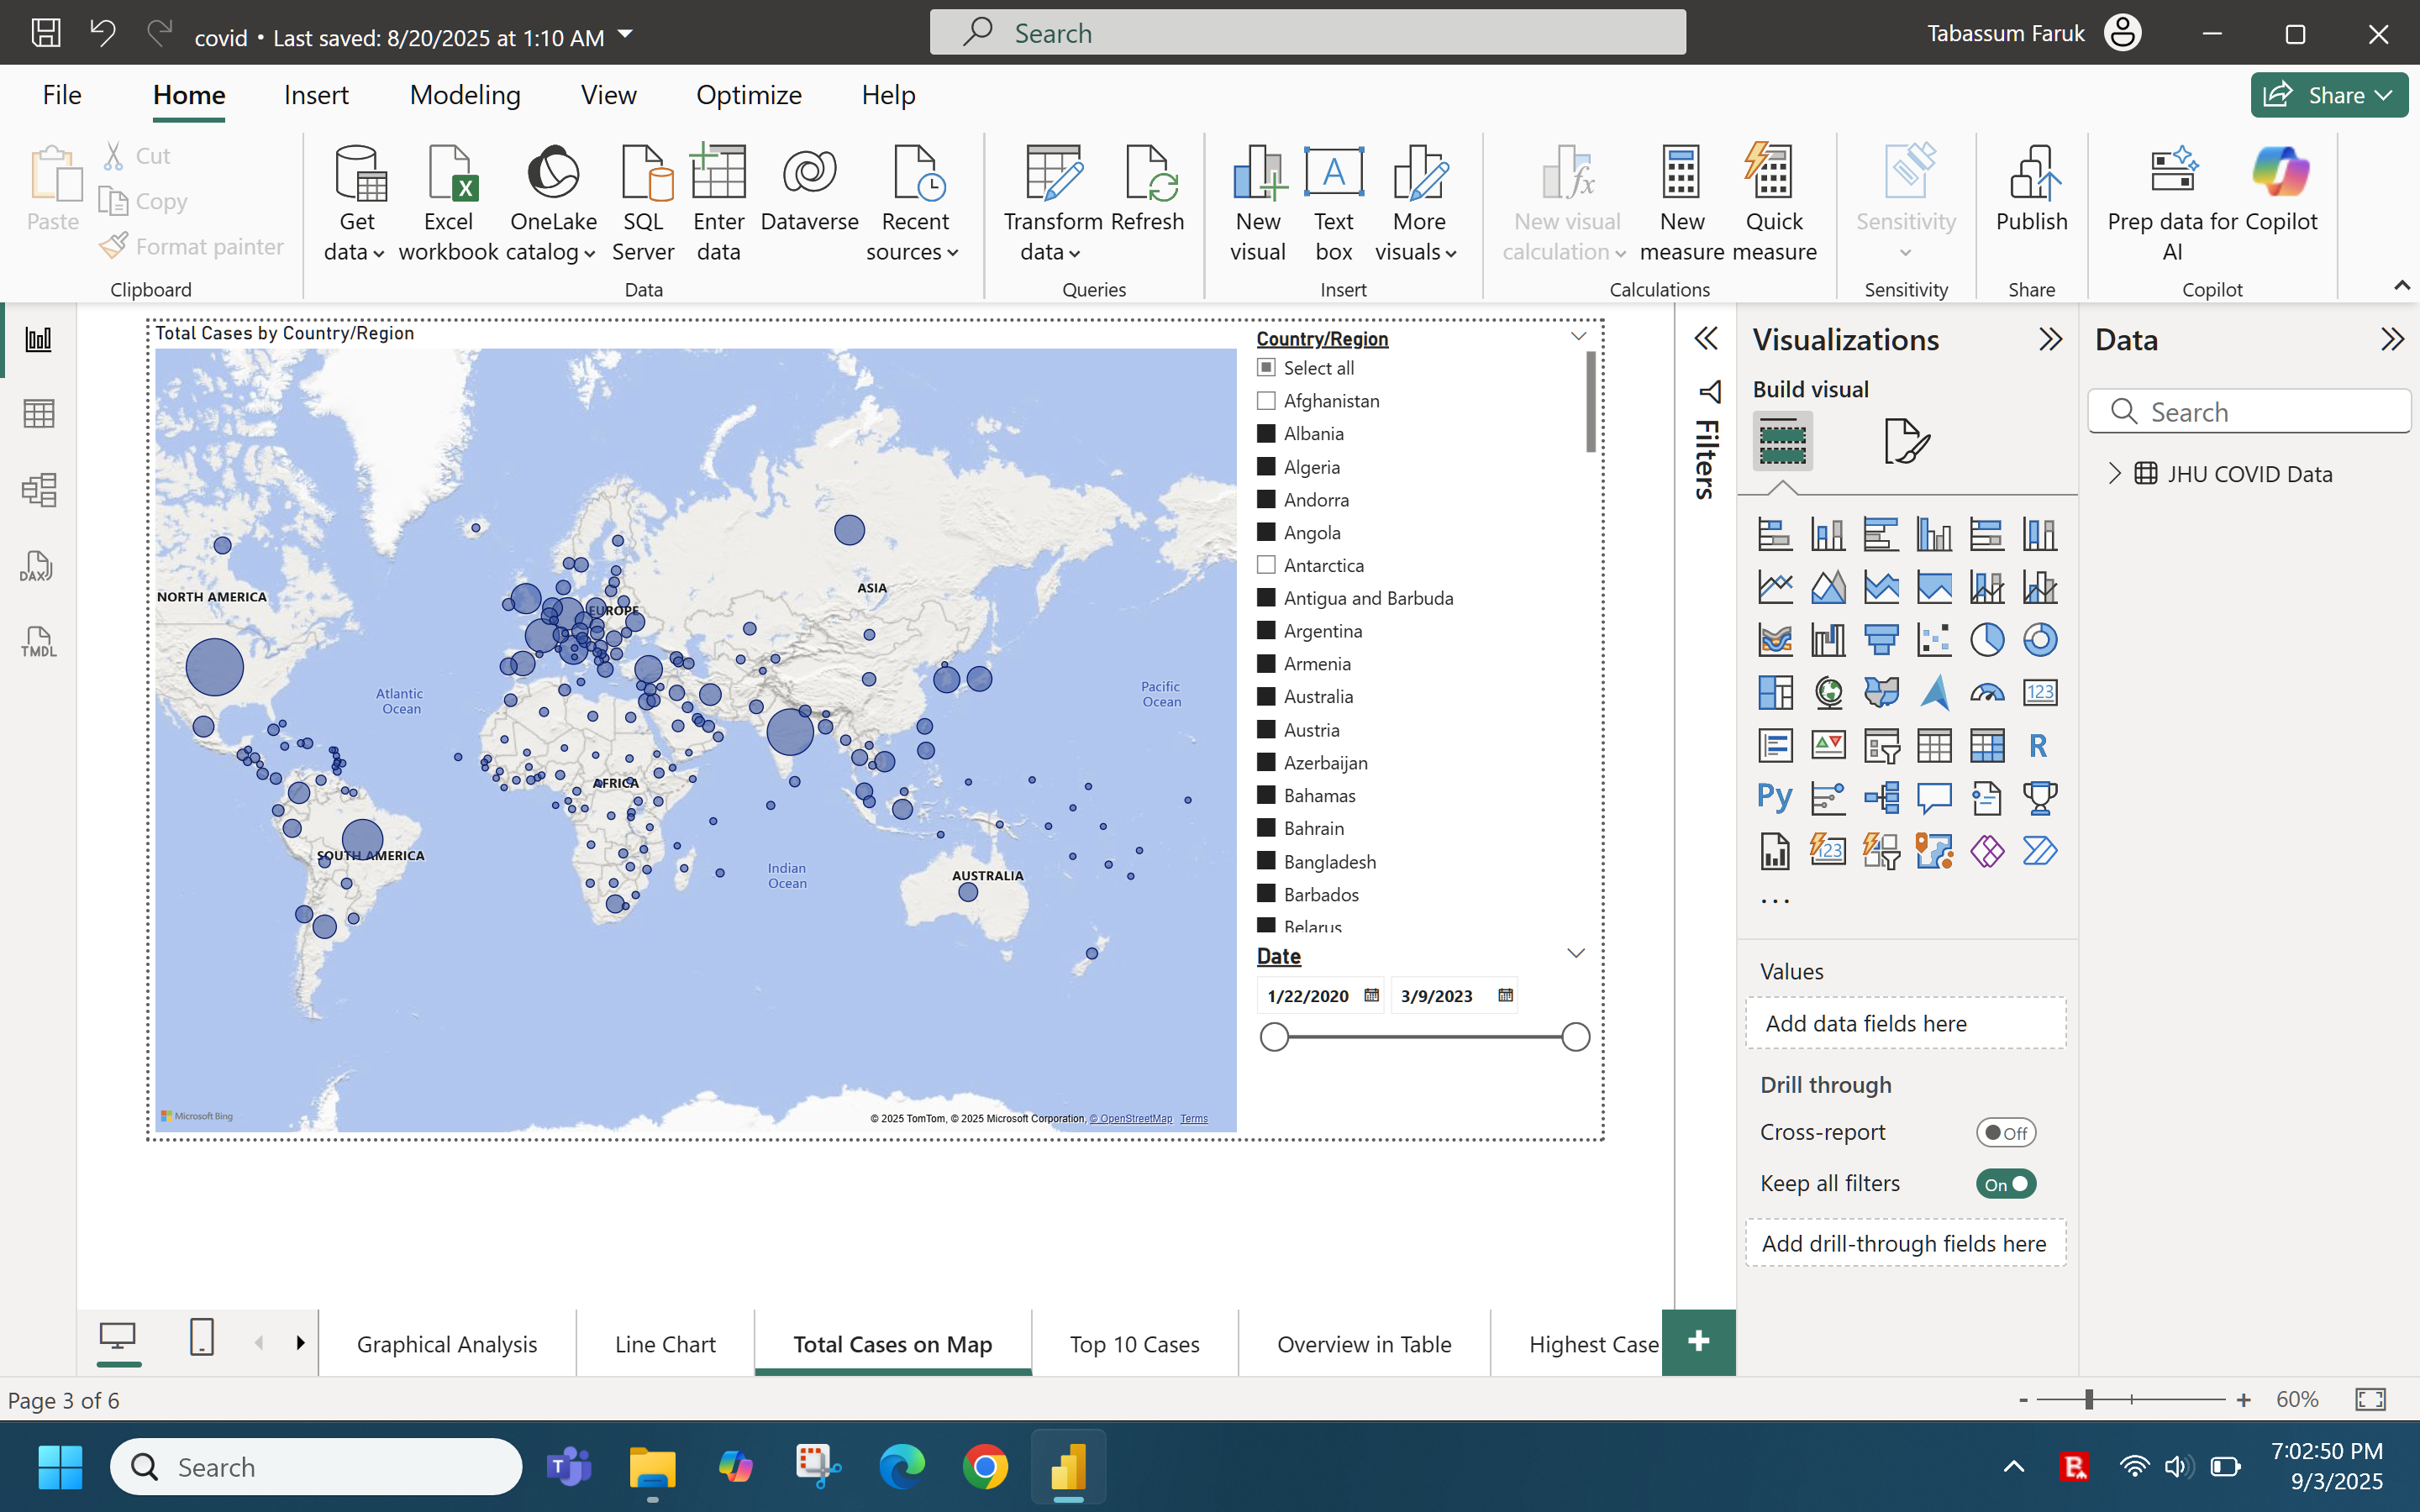

This screenshot's page, from the dashboard's own definition file:
{"tool":"powerbi","page":{"name":"Total Cases on Map","canvas":[1280,720],"ordinal":2},"visuals":[{"type":"azureMap","fields":{"Category":["JHU COVID Data.Country/Region"],"Size":["JHU COVID Data.Total Cases"]},"box":[0,0,963.3,720],"z":0},{"type":"slicer","fields":{"Values":["JHU COVID Data.Country/Region"]},"box":[963.3,0,316.7,543.3],"z":1000},{"type":"slicer","fields":{"Values":["JHU COVID Data.Date"]},"box":[964.1,542.7,315.3,154.6],"z":2000}]}

Visuals, with their boxes on the page's 1280x720 design canvas (x1, y1, x2, y2). These are canvas units, not pixel positions in the 2420x1512 screenshot, which may show the page scaled, cropped or inside an application window:
azureMap - JHU COVID Data.Country/Region x JHU COVID Data.Total Cases: [0,0,963,720]
slicer - JHU COVID Data.Country/Region: [963,0,1280,543]
slicer - JHU COVID Data.Date: [964,543,1279,697]
